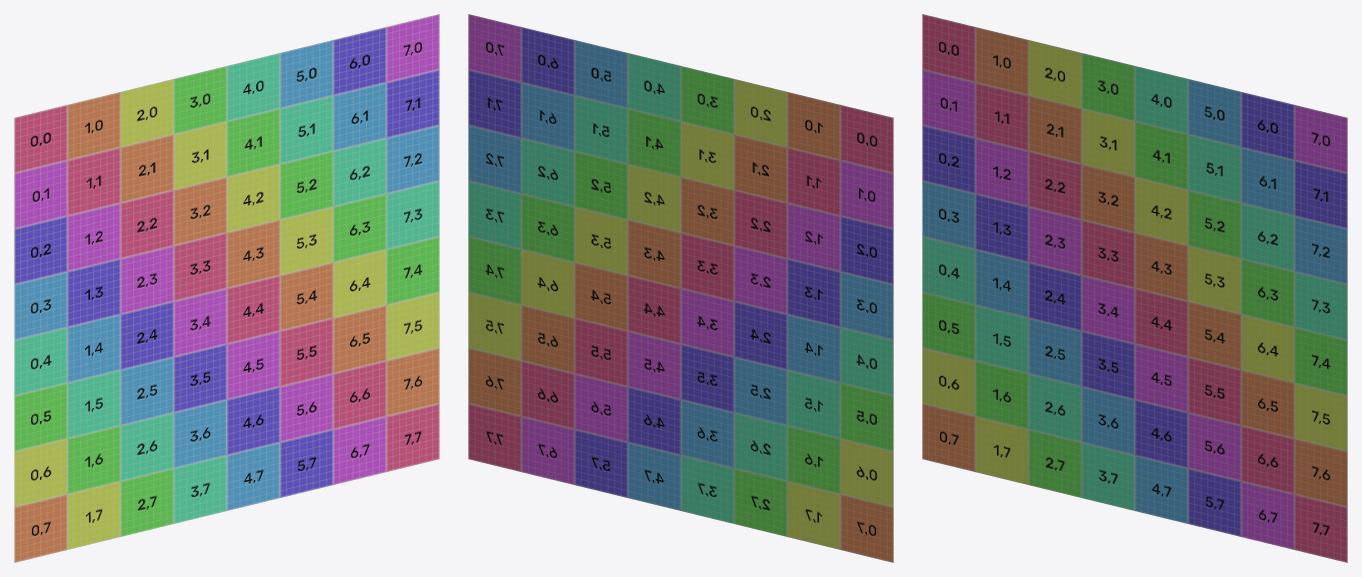
The model's file is axis2.obj.
3 renders of one model, left to right at view 1: azimuth 30°, elevation 25°; view 2: azimuth 150°, elevation 25°; view 3: azimuth 330°, elevation 25°, orthographic.
Parts seen in each view (by area): view 1: 平面; view 2: 平面; view 3: 平面.
Boxes of the visible parts, box(x1,y1,x2,y2) form: 平面: box(14, 14, 439, 562); 平面: box(468, 14, 893, 562); 平面: box(922, 14, 1347, 562).
Bounding box in the file's own units: 2 × 2 × 0.
Materials: 1 (1 with a texture image).
